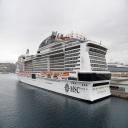cruises: (16, 31, 113, 106)
